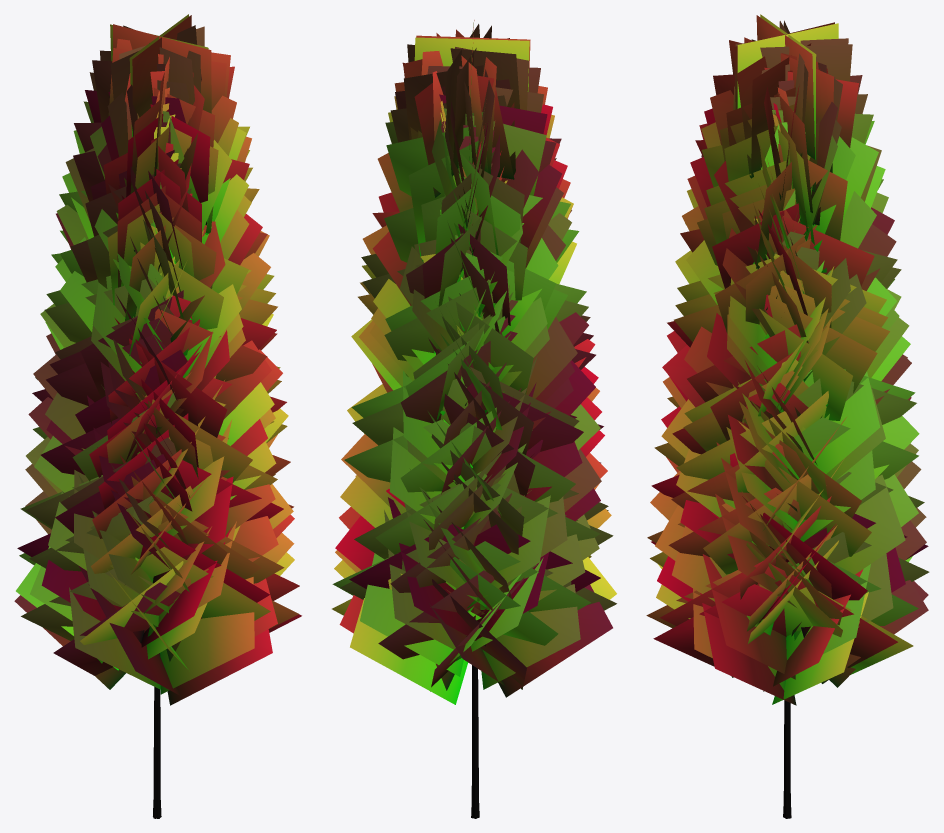
The model's file is URP_P4_Tree_3_LOD_1.fbx.
3 views of the same model, side by side, from view 1: azimuth 30°, elevation 25°; view 2: azimuth 150°, elevation 25°; view 3: azimuth 270°, elevation 25° (orthographic).
Parts seen in each view (by area): view 1: Tree_3_LOD_1; view 2: Tree_3_LOD_1; view 3: Tree_3_LOD_1.
Boxes of the visible parts, <box> form: Tree_3_LOD_1: <box>14,14,301,818</box>; Tree_3_LOD_1: <box>332,20,616,818</box>; Tree_3_LOD_1: <box>646,14,929,818</box>.
Bounding box in the file's own units: 209 × 640 × 209.
